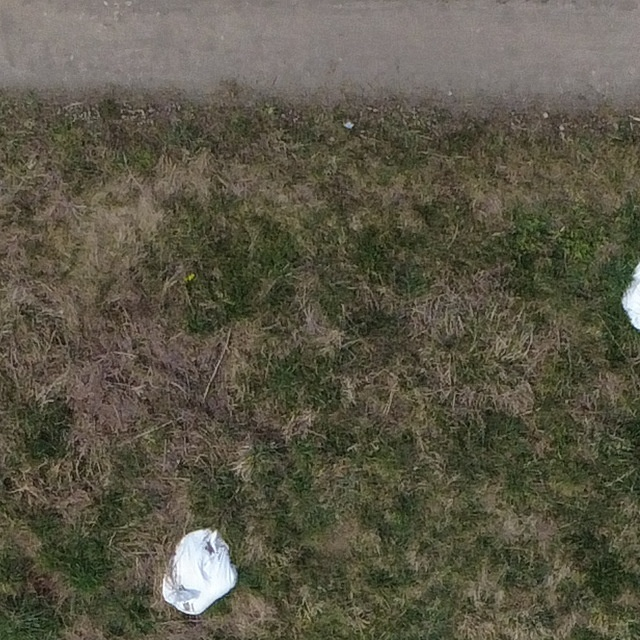sandbag: (161, 529, 237, 616), (622, 262, 640, 331)
